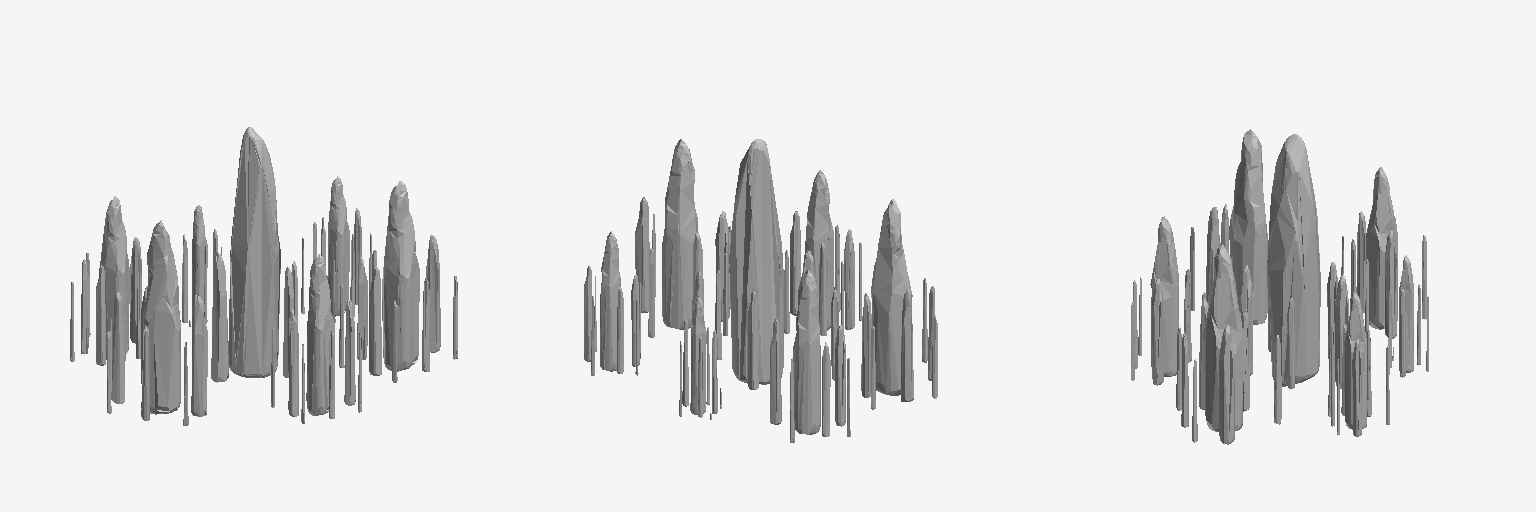
File: rockcluster.obj
3 renders of one model, left to right at view 1: azimuth 30°, elevation 25°; view 2: azimuth 150°, elevation 25°; view 3: azimuth 270°, elevation 25°, orthographic.
Visible parts, largest first — view 1: Cube.009_Cube.017; view 2: Cube.009_Cube.017; view 3: Cube.009_Cube.017.
Boxes of the visible parts, x1=… form: Cube.009_Cube.017: x1=70, y1=127, x2=457, y2=425; Cube.009_Cube.017: x1=584, y1=139, x2=937, y2=442; Cube.009_Cube.017: x1=1131, y1=129, x2=1428, y2=444.
Bounding box in the file's own units: 22.5 × 16.51 × 18.27.